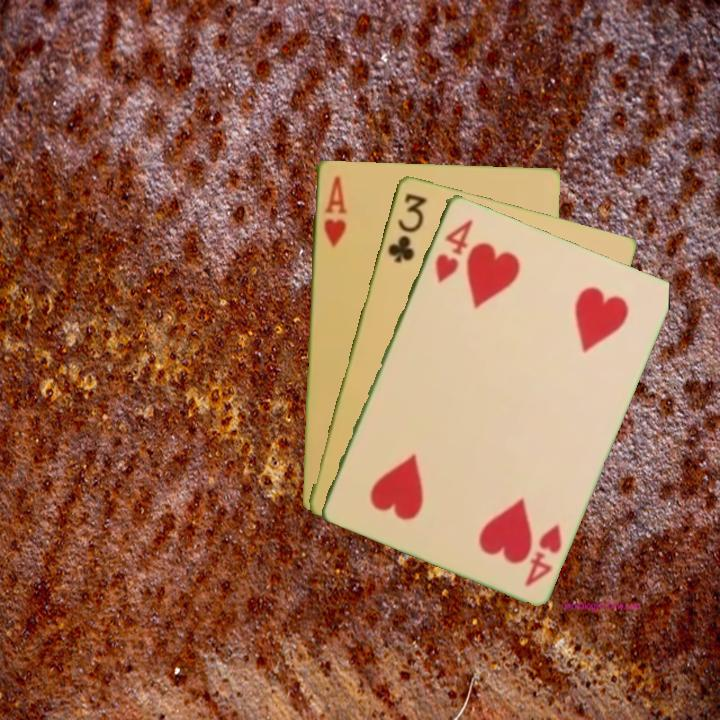3c: (384, 189, 430, 266)
4h: (431, 214, 476, 286), (521, 520, 565, 589)
Ah: (320, 172, 348, 250)
